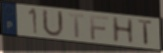1: (27, 8, 38, 36)
F: (88, 14, 110, 42)
H: (110, 15, 135, 45)
T: (137, 18, 155, 47), (67, 12, 85, 40)
U: (41, 8, 65, 39)
